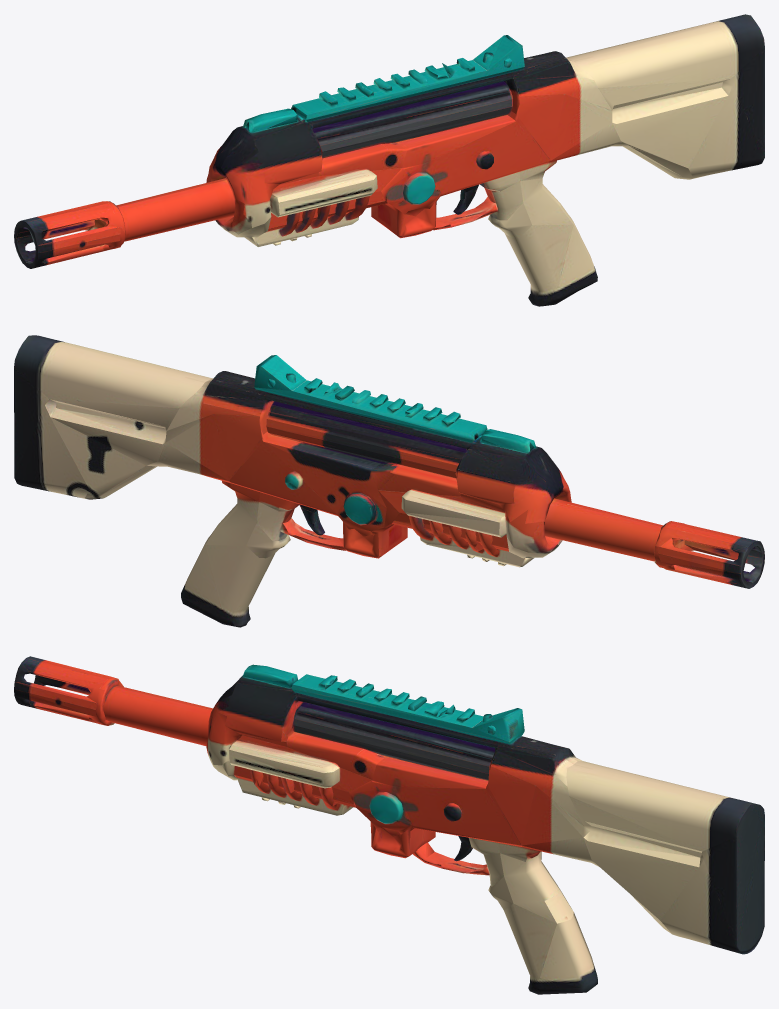
The model's file is reef-carbine.glb.
3 views of the same model, one above another, from view 1: azimuth 30°, elevation 25°; view 2: azimuth 150°, elevation 25°; view 3: azimuth 330°, elevation 25° (orthographic).
Size of the model in its own units: 1 by 0.3564 by 0.1194.
Materials: 1 (1 with a texture image).
